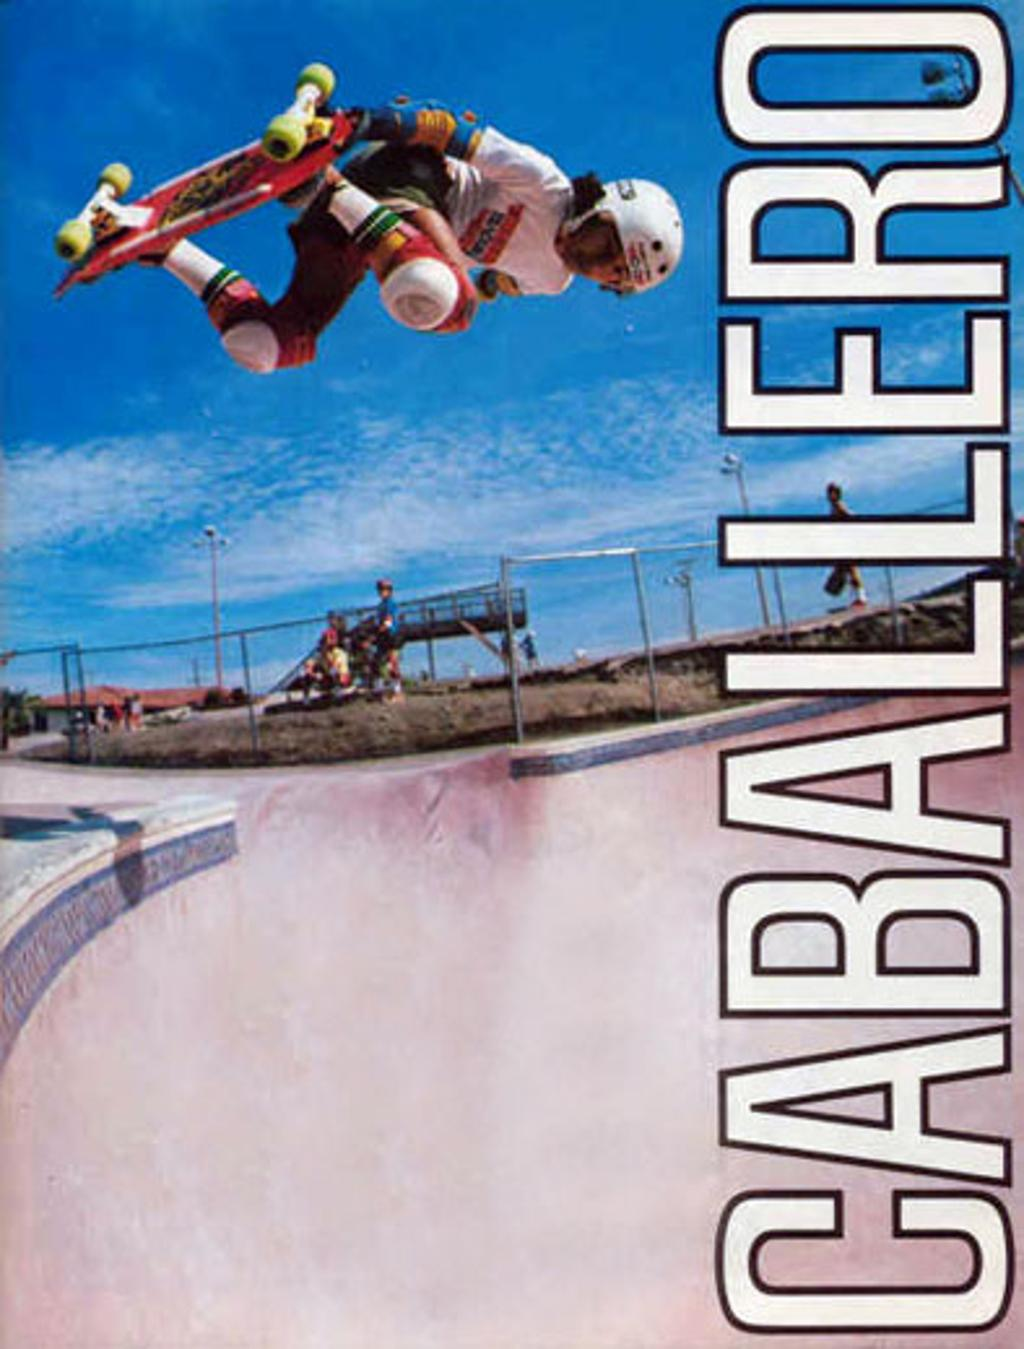face: (567, 223, 638, 290), (324, 631, 336, 645), (379, 588, 388, 598), (330, 618, 339, 627), (304, 662, 312, 672), (830, 490, 836, 499)
